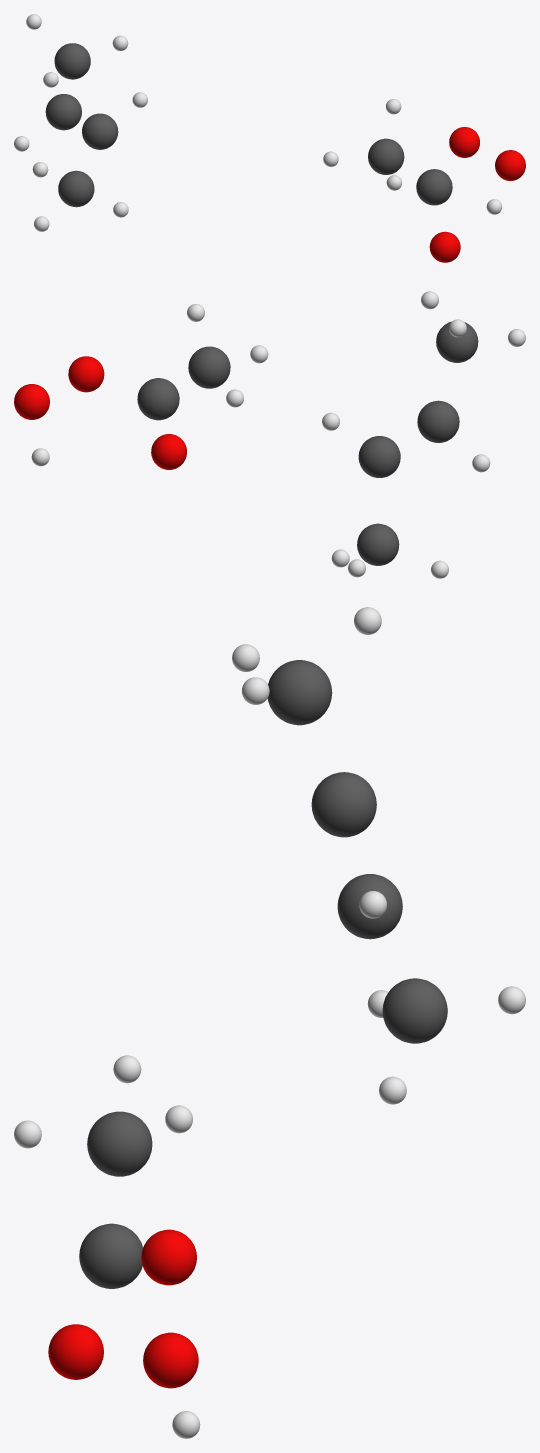
Rendered from Butene_EA_dimethyloxirane.fbx.
3 views of the same model, one above another, from view 1: azimuth 30°, elevation 25°; view 2: azimuth 150°, elevation 25°; view 3: azimuth 270°, elevation 25° (orthographic). The views are drawn at different scales.
Parts seen in each view (by area): view 1: C04, C14, C01, C08, C02, C13, O17, O15, O16; view 2: C13, C02, C14, C04, C01, C08, O16, O17, O15; view 3: C04, C13, C02, C08, C14, C01, O17, O15, O16.
Boxes of the visible parts, x1,y1,x2,y2 form: C04: (58, 170, 94, 207); C14: (416, 169, 452, 205); C01: (82, 113, 118, 149); C08: (54, 43, 90, 79); C02: (45, 94, 81, 130); C13: (368, 138, 404, 174); O17: (495, 150, 525, 180); O15: (429, 231, 460, 262); O16: (449, 127, 479, 157); C13: (188, 346, 230, 388); C02: (417, 400, 459, 442); C14: (137, 378, 179, 420); C04: (357, 523, 399, 565); C01: (358, 436, 400, 477); C08: (436, 321, 478, 362); O16: (68, 356, 104, 392); O17: (14, 384, 49, 419); O15: (151, 434, 186, 469); C04: (382, 978, 447, 1043); C13: (87, 1111, 152, 1176); C02: (311, 772, 376, 837); C08: (267, 660, 332, 725); C14: (79, 1223, 142, 1288); C01: (337, 874, 402, 939); O17: (143, 1332, 198, 1388); O15: (48, 1324, 103, 1379); O16: (141, 1229, 196, 1285).
Size of the model in its own units: 1090 by 608 by 587.
